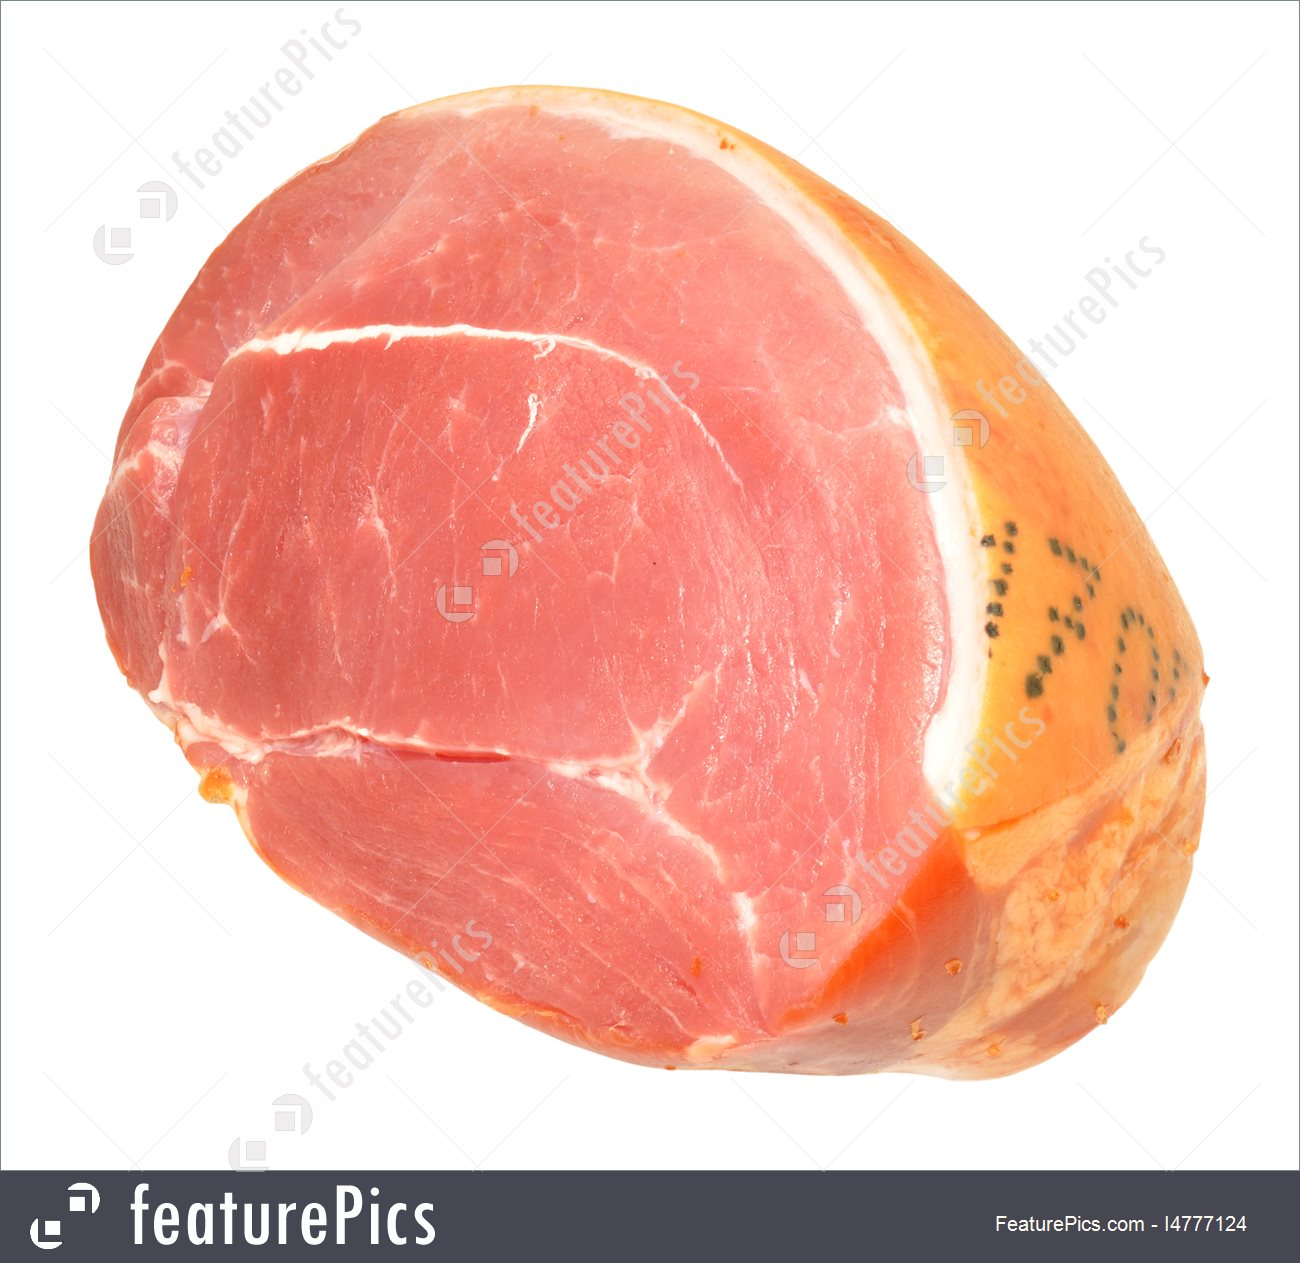bacon: (64, 65, 1177, 1103)
